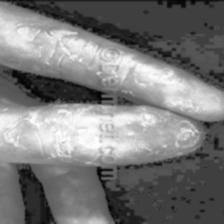Non-Cancerous Skin Condition: (0, 1, 97, 82), (122, 53, 224, 120), (0, 106, 96, 165), (120, 107, 197, 162)
